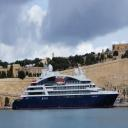cruises: (13, 63, 121, 113)
